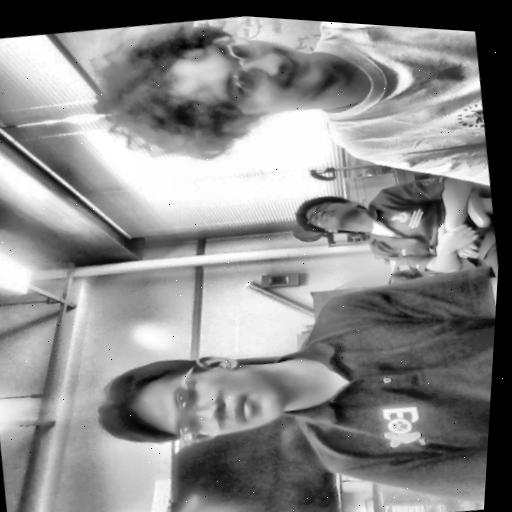Daifuku: (72, 5, 355, 187)
Not Daifuku: (86, 332, 308, 461), (290, 185, 376, 245)
